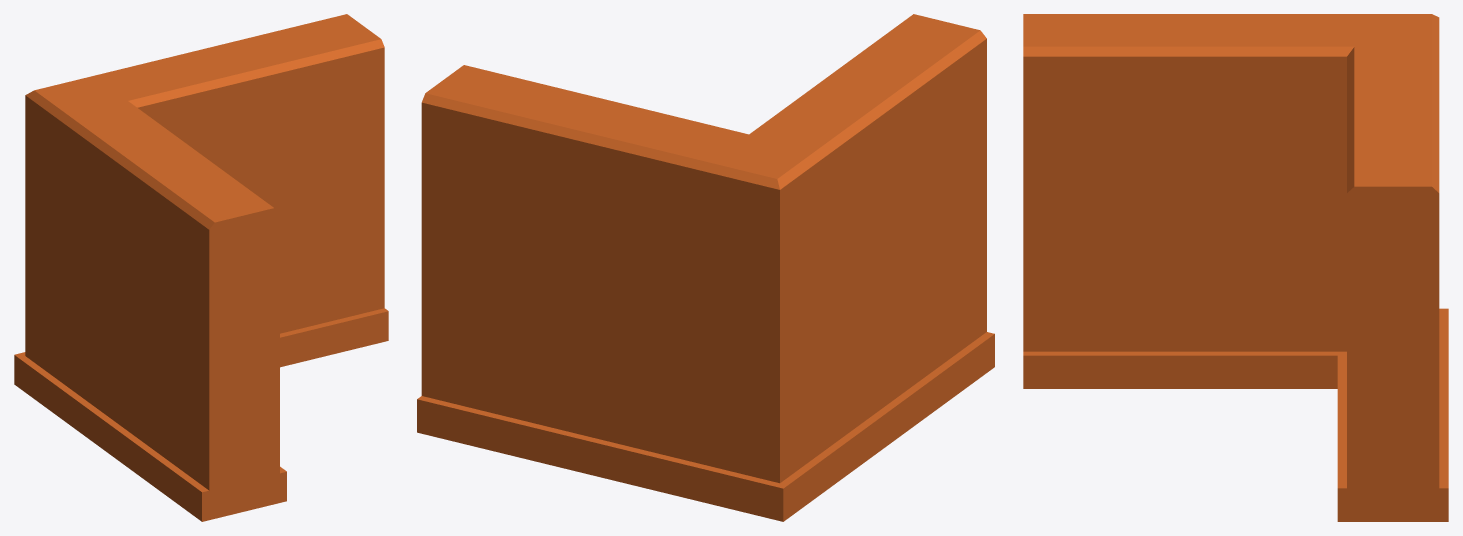
File: Wall Turn.fbx
The picture shows the model from 3 angles, left to right: view 1: azimuth 30°, elevation 25°; view 2: azimuth 150°, elevation 25°; view 3: azimuth 270°, elevation 25°; orthographic projection. The views are drawn at different scales.
Parts seen in each view (by area): view 1: Wall Turn; view 2: Wall Turn; view 3: Wall Turn.
Boxes of the visible parts, x1,y1,x2,y2 form: Wall Turn: (14, 14, 388, 521); Wall Turn: (417, 14, 994, 521); Wall Turn: (1023, 14, 1448, 521).
Size of the model in its own units: 230 by 200 by 230.
